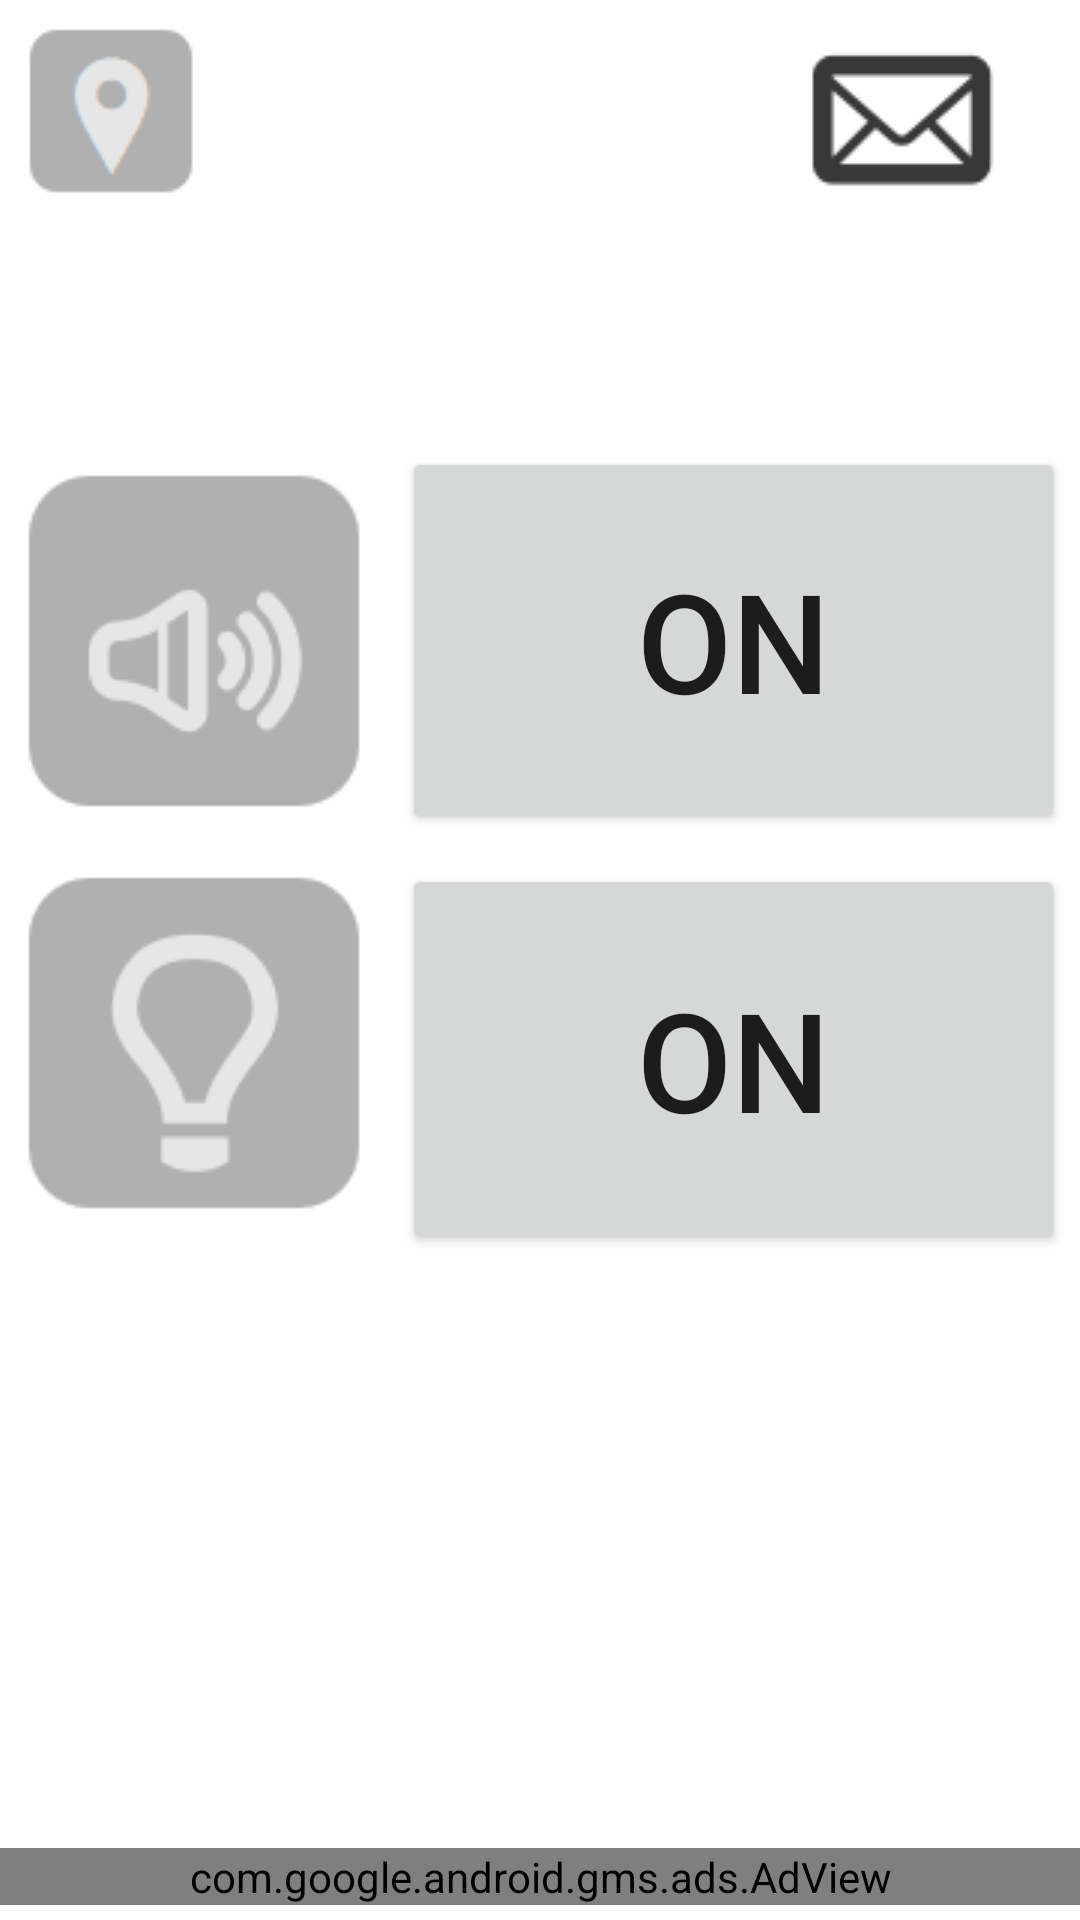

Icons on this 1080*1920 Android screen, each with the point to tap as [x,y]:
mail: [902,120]
pos: [111,111]
speaker: [194,641]
